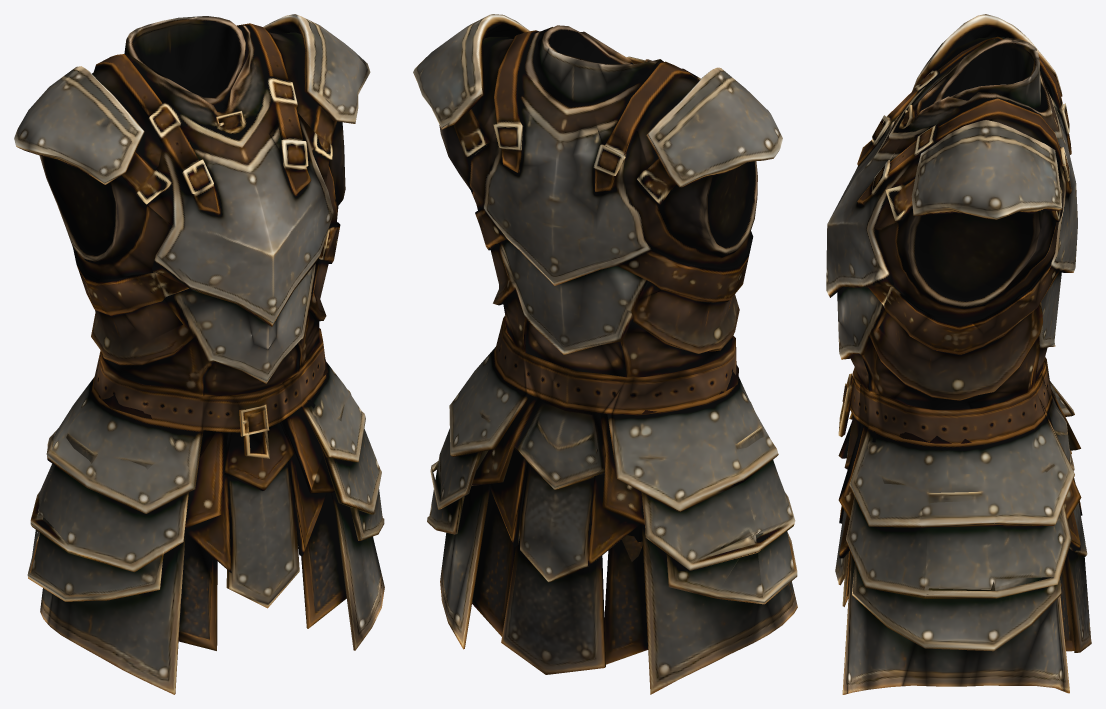
Rendered from meshy.glb.
3 renders of one model, left to right at view 1: azimuth 30°, elevation 25°; view 2: azimuth 150°, elevation 25°; view 3: azimuth 270°, elevation 25°, orthographic. The views are drawn at different scales.
Parts seen in each view (by area): view 1: geometry_0; view 2: geometry_0; view 3: geometry_0.
Boxes of the visible parts, x1,y1,x2,y2 form: geometry_0: (14,14,384,694); geometry_0: (413,14,797,694); geometry_0: (826,14,1091,694).
Bounding box in the file's own units: 0.5923 × 0.9517 × 0.3896.
1 material, 1 textured.
